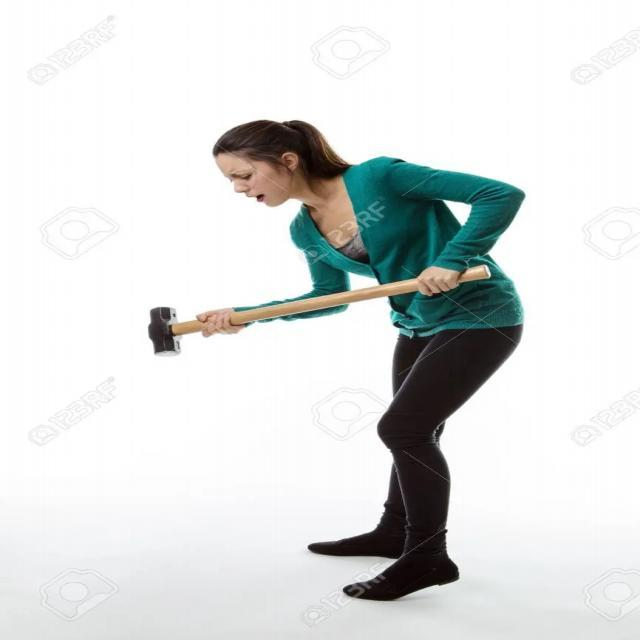hammer: (101, 254, 514, 360)
